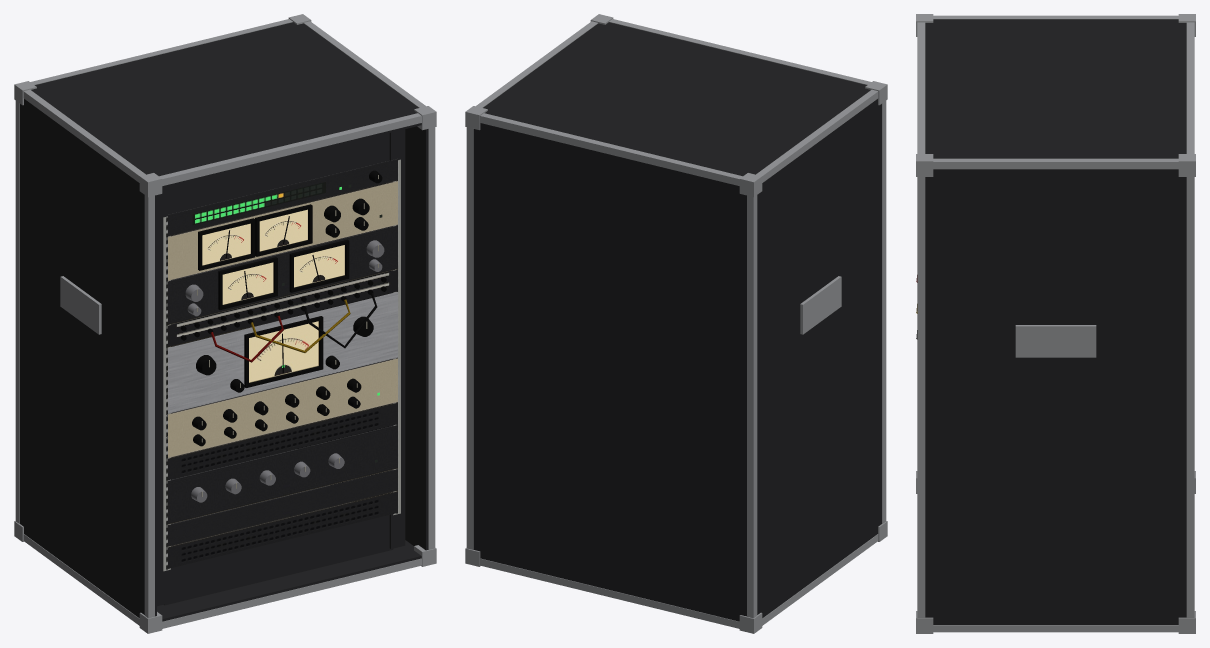
The model's file is vu-rack.glb.
3 views of the same model, side by side, from view 1: azimuth 30°, elevation 25°; view 2: azimuth 150°, elevation 25°; view 3: azimuth 270°, elevation 25° (orthographic). The views are drawn at different scales.
Parts seen in each view (by area): view 1: rack; view 2: rack; view 3: rack.
Boxes of the visible parts, x1,y1,x2,y2 form: rack: [14, 14, 436, 633]; rack: [465, 14, 887, 633]; rack: [916, 14, 1195, 633].
Size of the model in its own units: 0.612 by 0.906 by 0.486.
4 materials, 3 textured.
